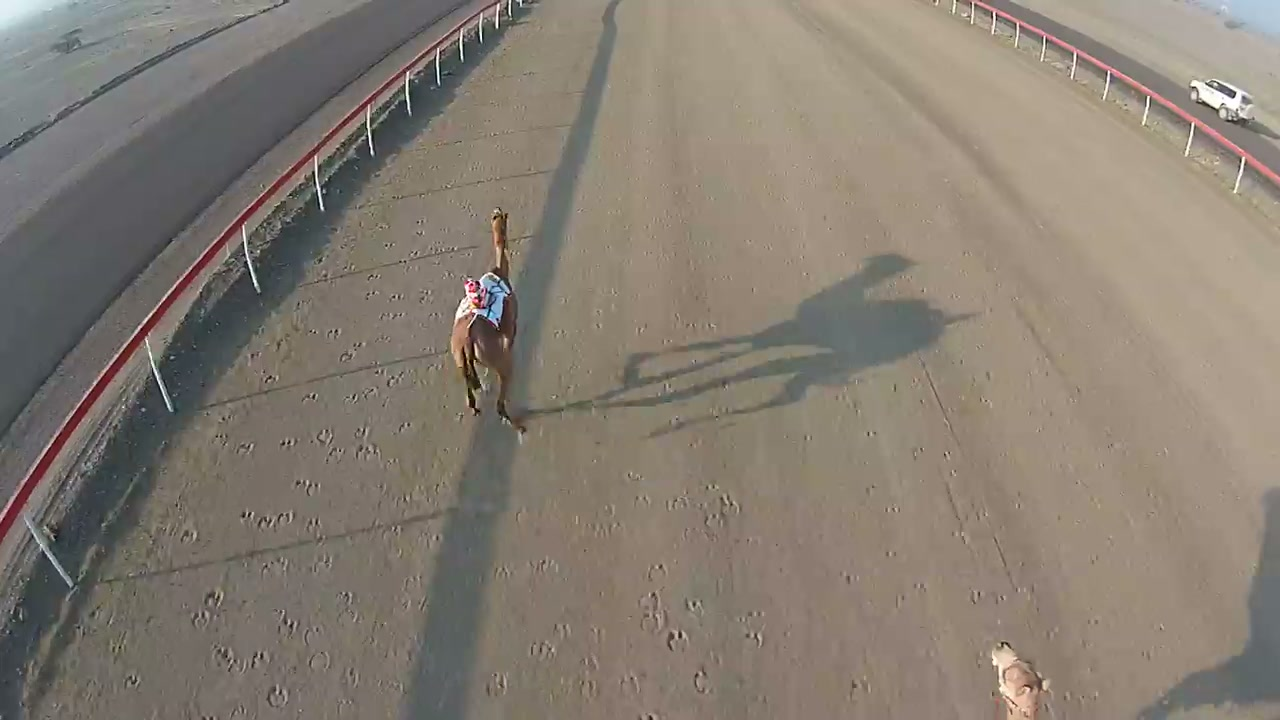animal_foot_print: (197, 237, 420, 718), (513, 493, 766, 719)
